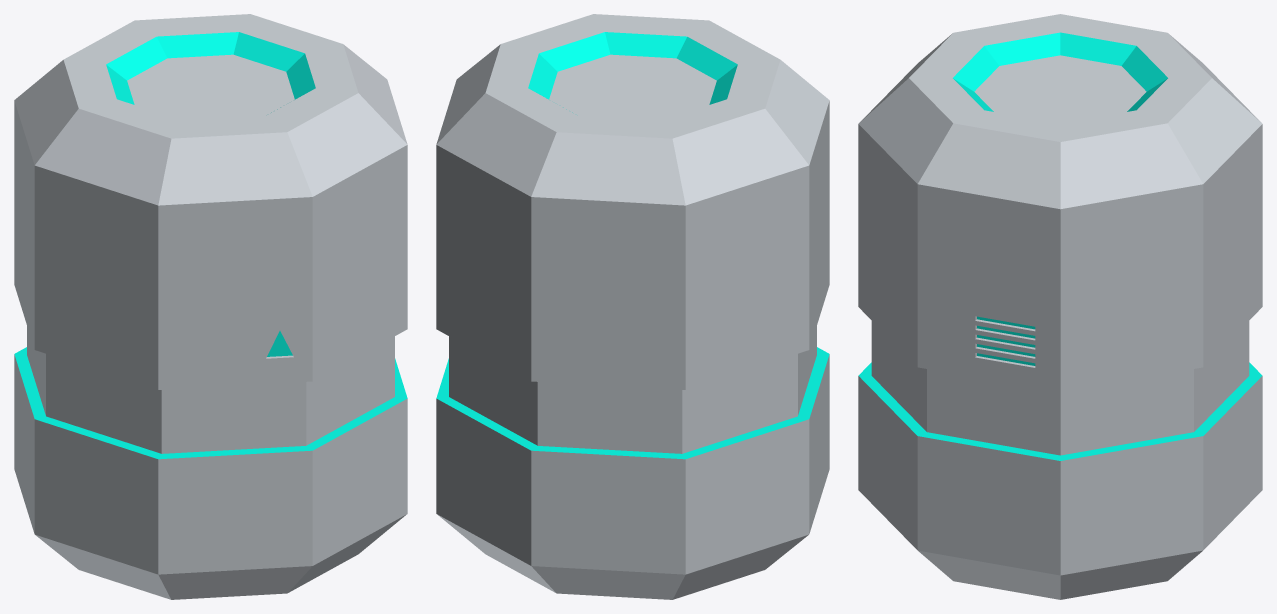
3 views of the same model, side by side, from view 1: azimuth 30°, elevation 25°; view 2: azimuth 150°, elevation 25°; view 3: azimuth 270°, elevation 25° (orthographic).
Visible parts, largest first — view 1: cylinder-03; view 2: cylinder-03; view 3: cylinder-03.
Part boxes in pixels (<box>): cylinder-03: <box>14,14,407,599</box>; cylinder-03: <box>436,14,829,599</box>; cylinder-03: <box>858,14,1262,599</box>.
Bounding box in the file's own units: 80 × 100 × 80.
